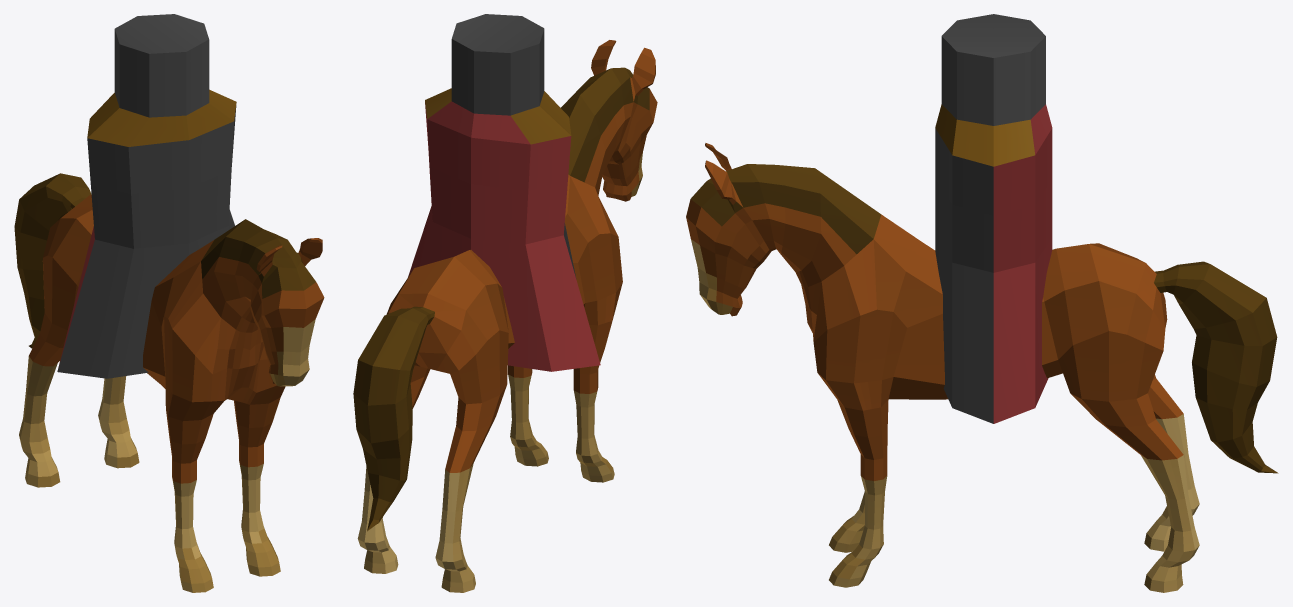
File: Horse.glb
The picture shows the model from 3 angles, left to right: view 1: azimuth 30°, elevation 25°; view 2: azimuth 150°, elevation 25°; view 3: azimuth 270°, elevation 25°; orthographic projection. The views are drawn at different scales.
Parts seen in each view (by area): view 1: Horse; view 2: Horse; view 3: Horse.
Boxes of the visible parts, x1,y1,x2,y2 form: Horse: (14, 14, 324, 592); Horse: (353, 14, 657, 592); Horse: (686, 14, 1278, 592).
Size of the model in its own units: 1.4 by 3.17 by 3.22.
1 material, 1 textured.
